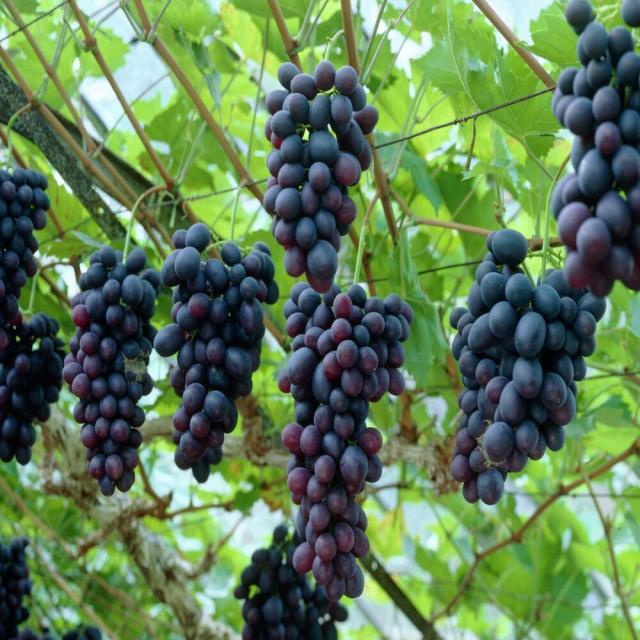grape: (277, 282, 412, 600), (449, 228, 604, 503), (154, 222, 278, 481), (262, 60, 377, 291), (550, 0, 639, 295), (62, 244, 159, 494), (0, 167, 64, 463), (233, 524, 346, 638), (0, 309, 60, 462), (0, 538, 30, 638)
